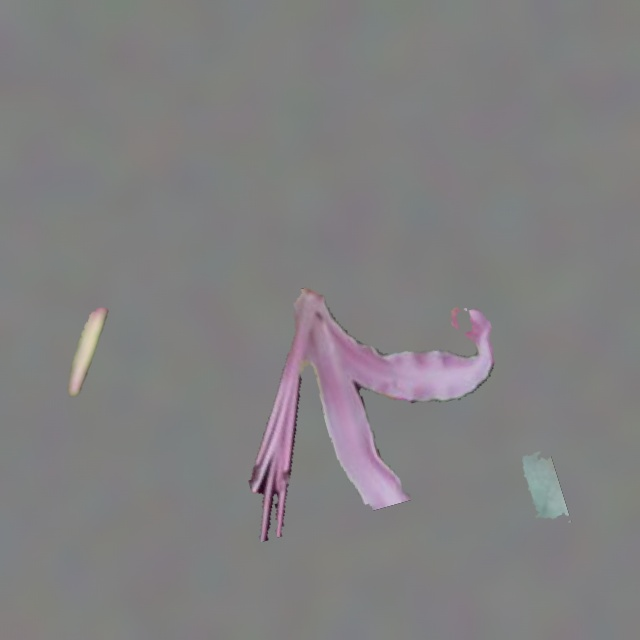cape flower: (249, 288, 494, 541)
cyclamen: (68, 308, 107, 396), (522, 451, 570, 521)
